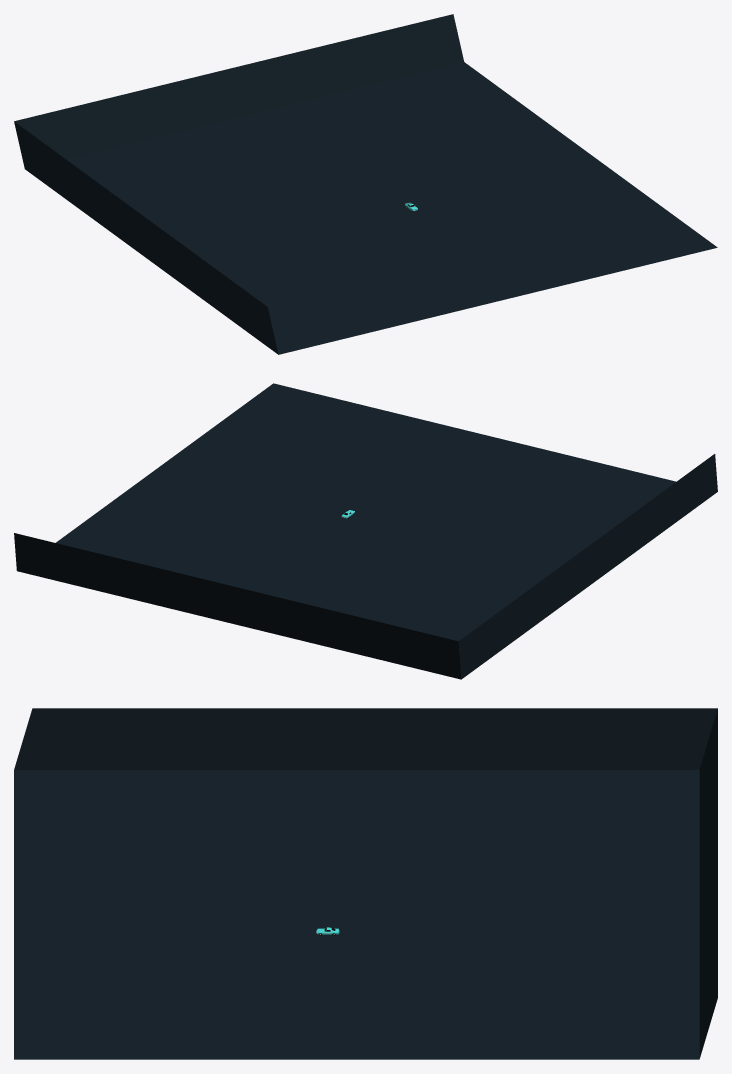
File: mustang car.fbx
The picture shows the model from 3 angles, top to bottom: view 1: azimuth 30°, elevation 25°; view 2: azimuth 150°, elevation 25°; view 3: azimuth 270°, elevation 25°; orthographic projection. The views are drawn at different scales.
Parts seen in each view (by area): view 1: Plane; view 2: Plane; view 3: Plane.
Boxes of the visible parts, x1,y1,x2,y2 form: Plane: (14,14,717,354); Plane: (14,383,717,679); Plane: (14,708,717,1059).
Bounding box in the file's own units: 10336 × 977 × 10519.
